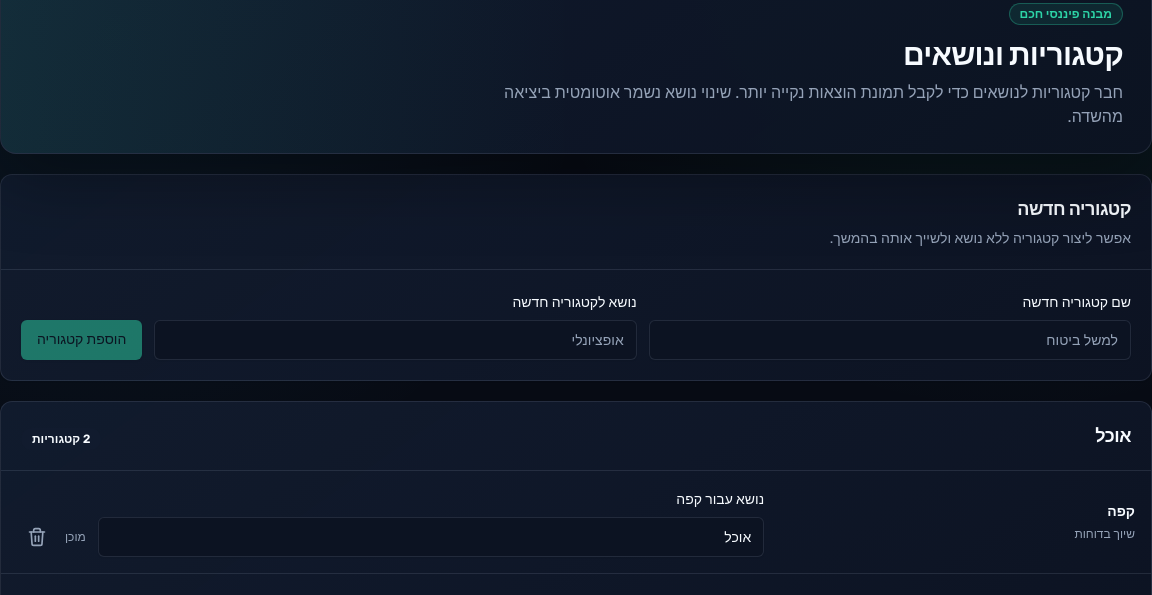
Test: does not save an unchanged trimmed group and keeps save errors visible
This screenshot has width=1152, height=595.
Replace the text in the field labelled "נושא עבור קפה" with "  אוכל  " at x=431, y=537, box [98,517,764,557]
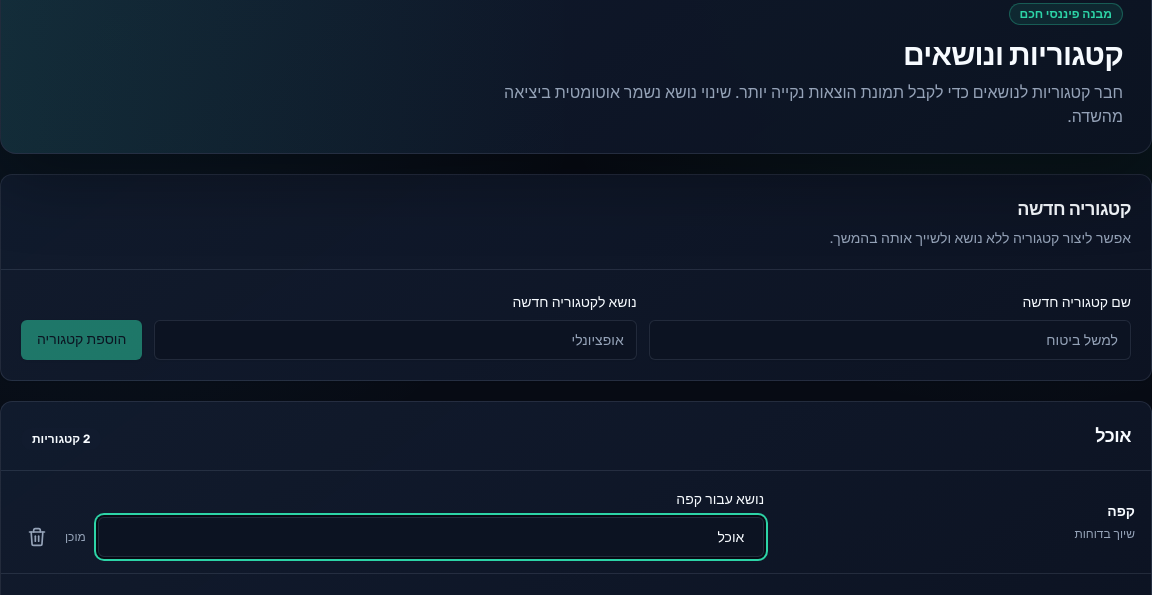
Press Tab
(page scrolled)
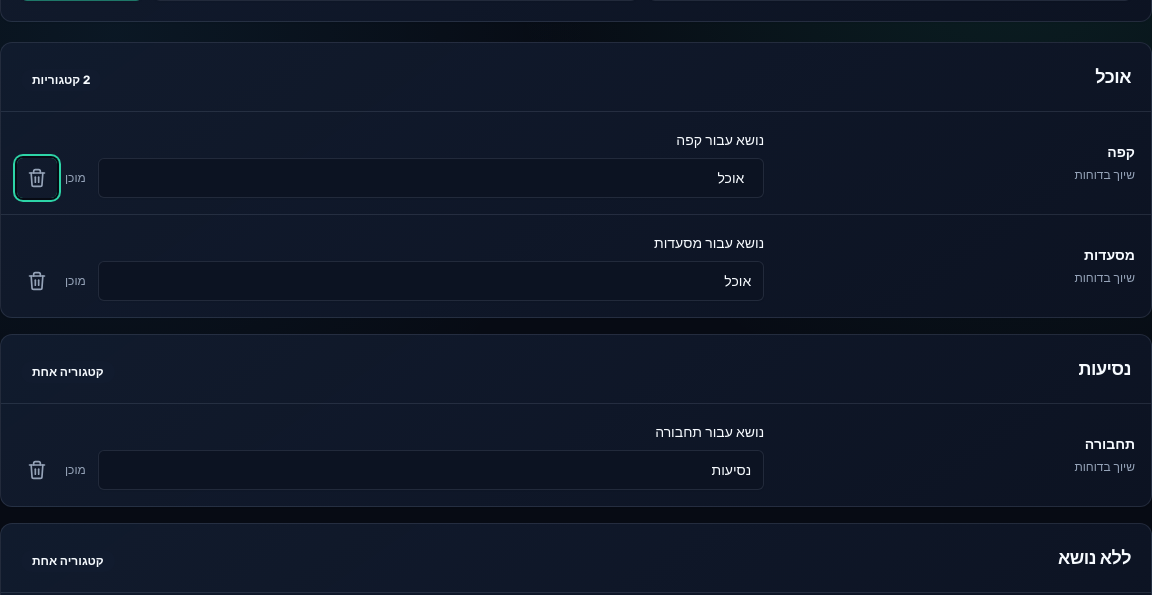
Replace the text in the field labelled "נושא עבור תחבורה" with "רכב" at x=431, y=470, box [98,450,764,490]
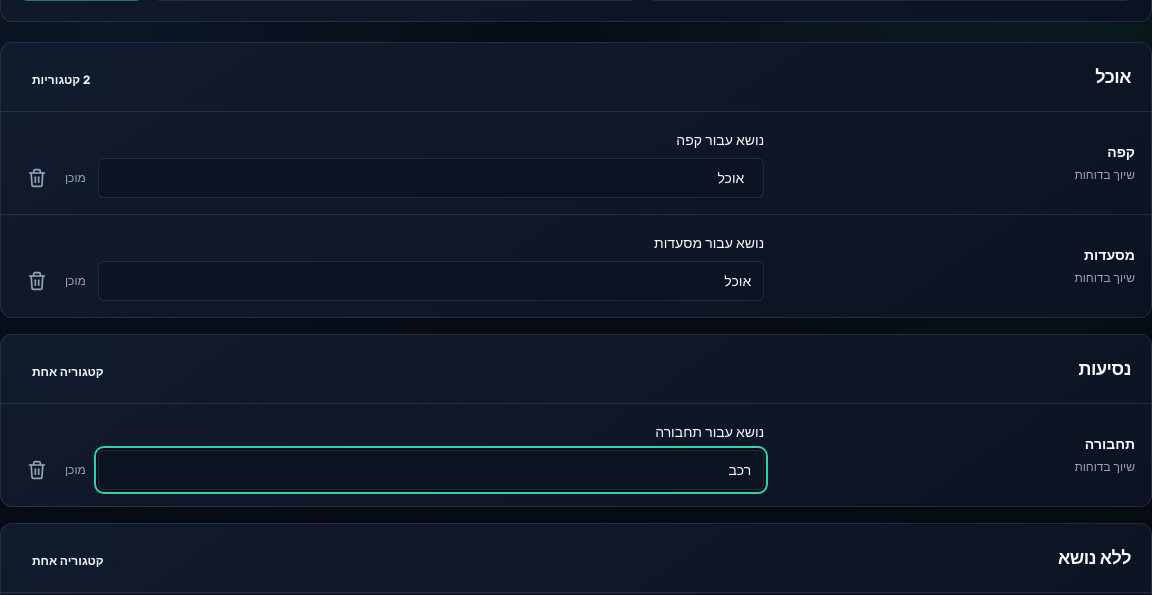
Press Tab
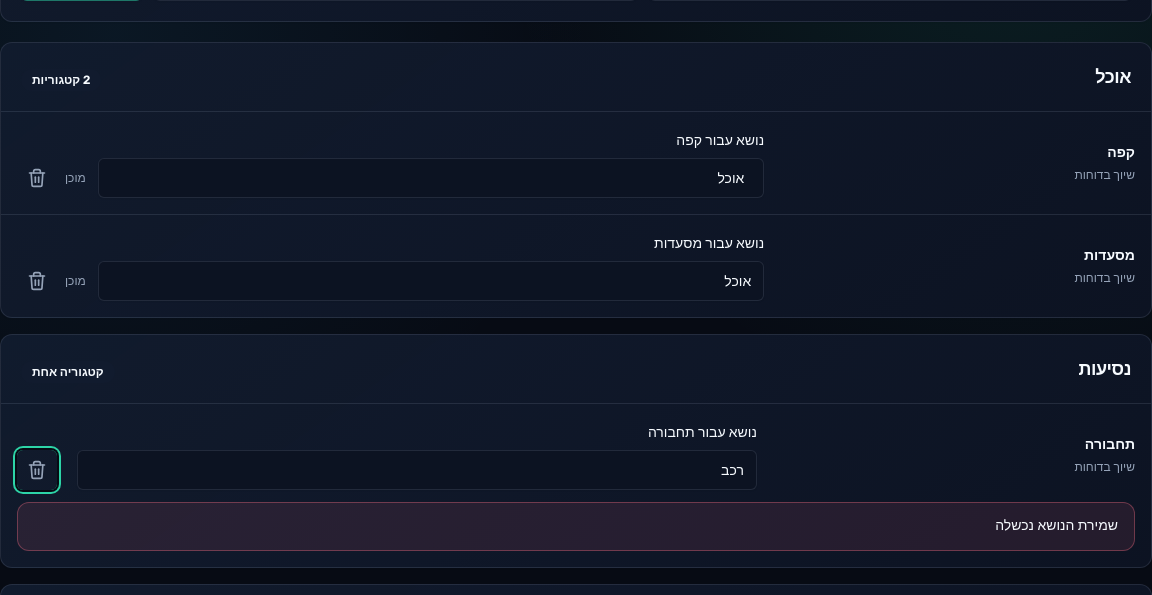
Expected: the message reads "שמירת הנושא נכשלה", [995,517,1118,534]
